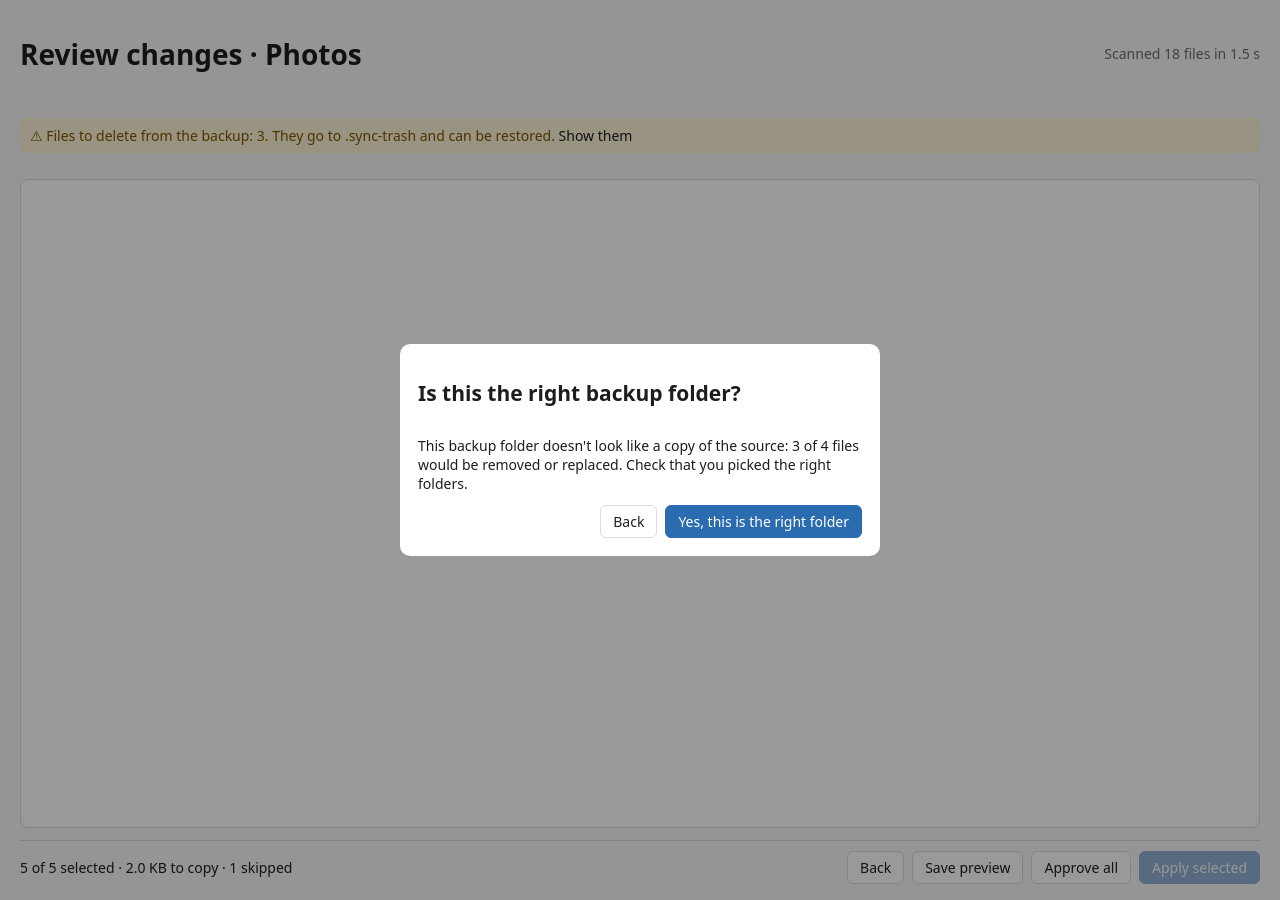
Test: Preview › blocks on the wrong-folder dialog until confirmed
Expected: the dialog "Is this the right backup folder?" is shown, [400,344,880,556]
Expected: the button "Apply selected" is disabled, [1139,851,1260,884]
What coordinates should you click on to do the following:
click the button "Yes, this is the right folder"
I would click on:
 (764, 522)
Its box is [665,505,862,538].
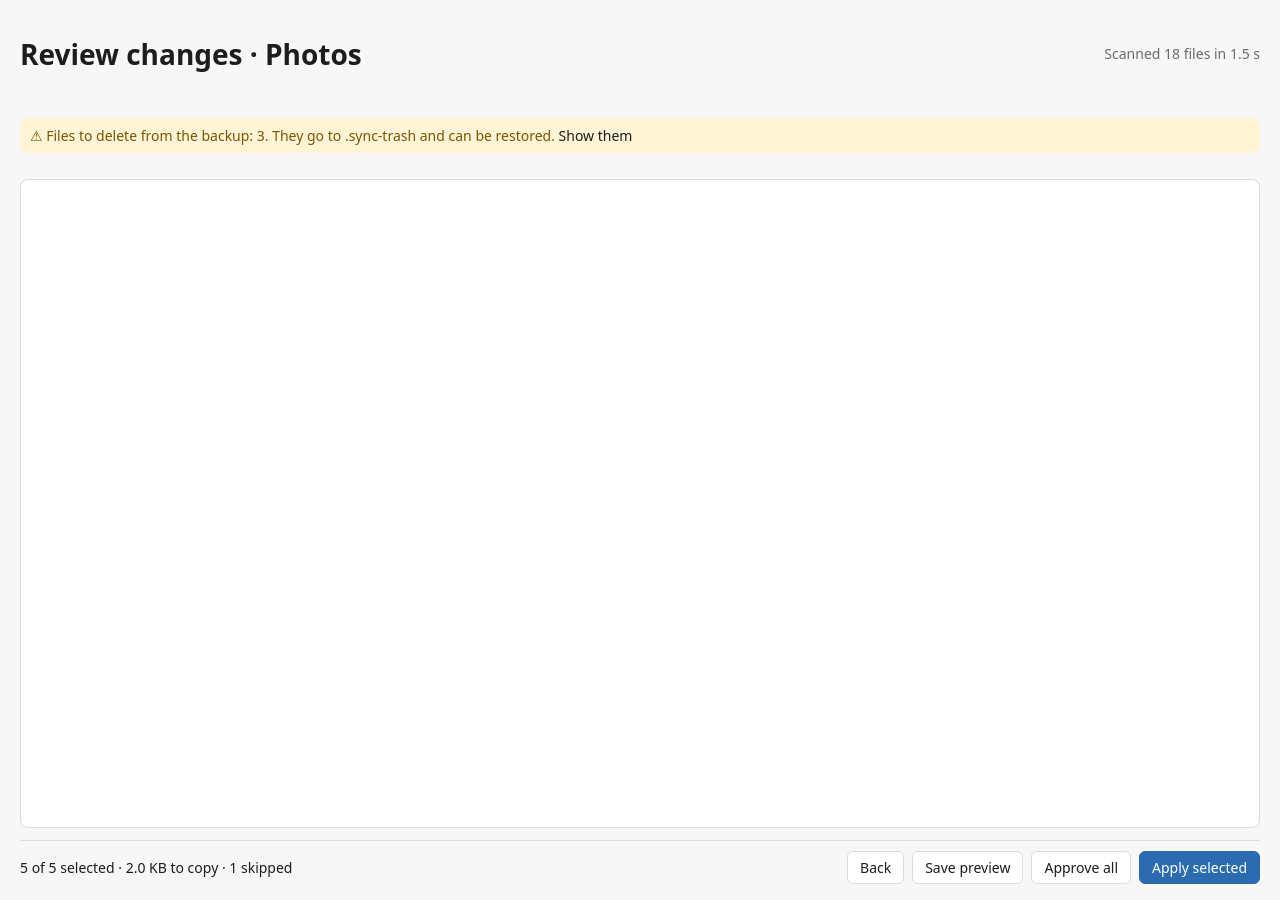
Expected: the dialog is gone
Expected: the button "Apply selected" is enabled, [1139,851,1260,884]
